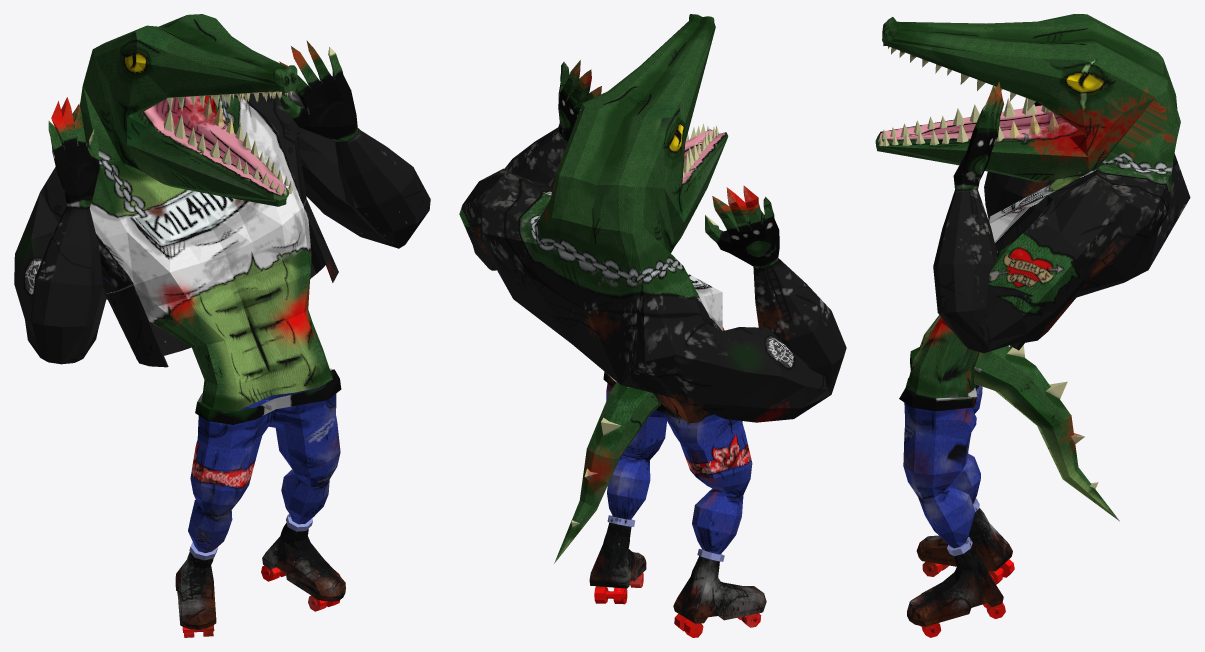
File: cocodrilaBonesSelect_000015.obj
The picture shows the model from 3 angles, left to right: view 1: azimuth 30°, elevation 25°; view 2: azimuth 150°, elevation 25°; view 3: azimuth 270°, elevation 25°; orthographic projection. The views are drawn at different scales.
Visible parts, largest first — view 1: Crocodile.002_Cylinder.002; view 2: Crocodile.002_Cylinder.002; view 3: Crocodile.002_Cylinder.002.
Part boxes in pixels (x1,y1,x2,y2): Crocodile.002_Cylinder.002: [14, 14, 430, 637]; Crocodile.002_Cylinder.002: [459, 14, 846, 637]; Crocodile.002_Cylinder.002: [875, 14, 1190, 637].
Bounding box in the file's own units: 4.53 × 6.6 × 3.23.
